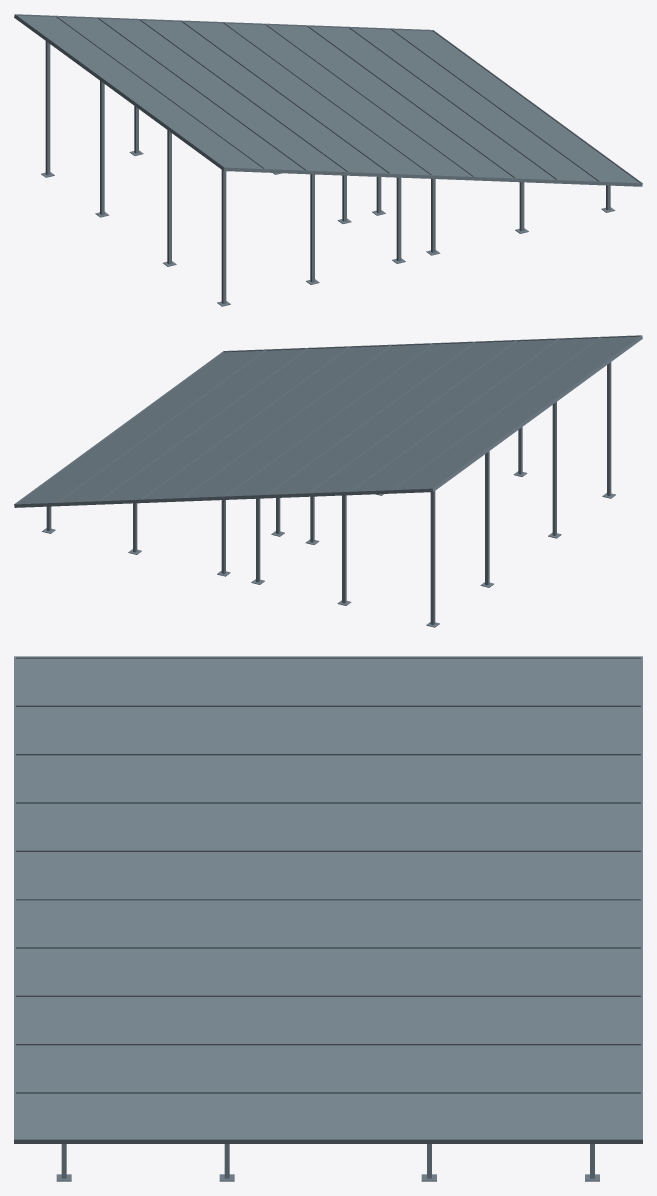
The model's file is SM05_Industrial_SolarPanel_01_Flat_02.fbx.
3 views of the same model, one above another, from view 1: azimuth 30°, elevation 25°; view 2: azimuth 150°, elevation 25°; view 3: azimuth 270°, elevation 25° (orthographic). The views are drawn at different scales.
Parts seen in each view (by area): view 1: SM05_Industrial_SolarPanel_01_Flat_02; view 2: SM05_Industrial_SolarPanel_01_Flat_02; view 3: SM05_Industrial_SolarPanel_01_Flat_02.
Boxes of the visible parts, bbox=[...] form: SM05_Industrial_SolarPanel_01_Flat_02: bbox=[14, 14, 642, 306]; SM05_Industrial_SolarPanel_01_Flat_02: bbox=[14, 335, 642, 627]; SM05_Industrial_SolarPanel_01_Flat_02: bbox=[14, 656, 642, 1181].
Size of the model in its own units: 16.9 by 5.87 by 14.63.
